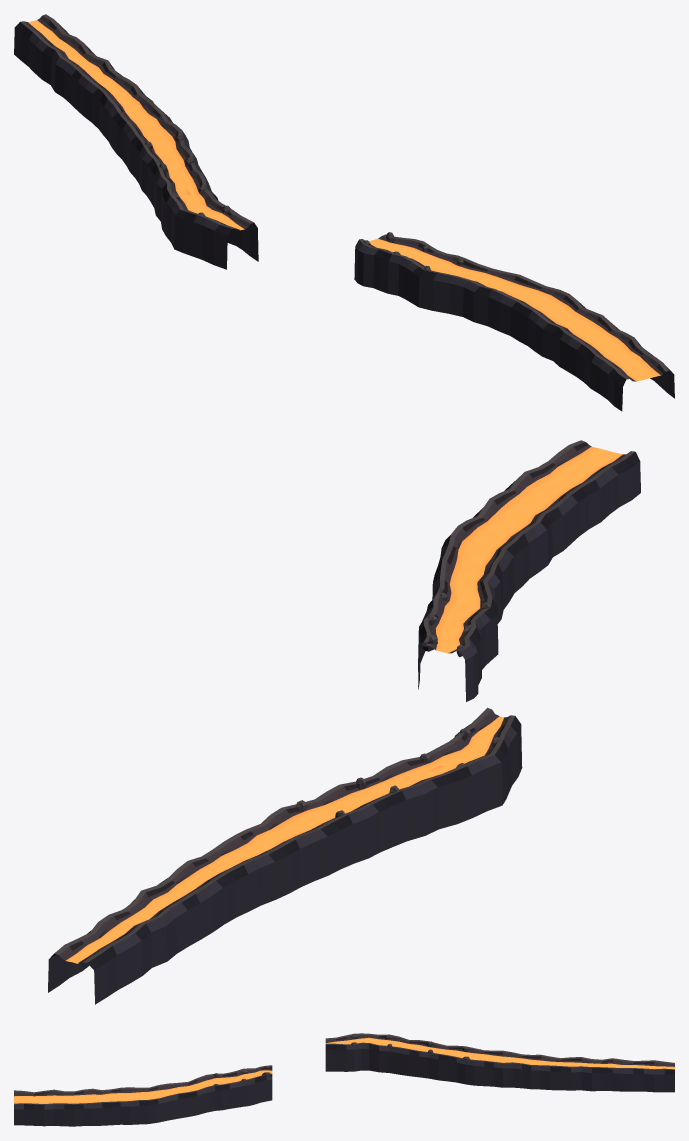
Rendered from forge-lava-runs.glb.
3 views of the same model, one above another, from view 1: azimuth 30°, elevation 25°; view 2: azimuth 150°, elevation 25°; view 3: azimuth 270°, elevation 25° (orthographic). The views are drawn at different scales.
Parts seen in each view (by area): view 1: forge-lava-runs; view 2: forge-lava-runs; view 3: forge-lava-runs.
Boxes of the visible parts, x1=… form: forge-lava-runs: x1=14, y1=14, x2=674, y2=411; forge-lava-runs: x1=48, y1=440, x2=640, y2=1004; forge-lava-runs: x1=14, y1=1033, x2=674, y2=1126.
Size of the model in its own units: 44.11 by 7.74 by 175.
